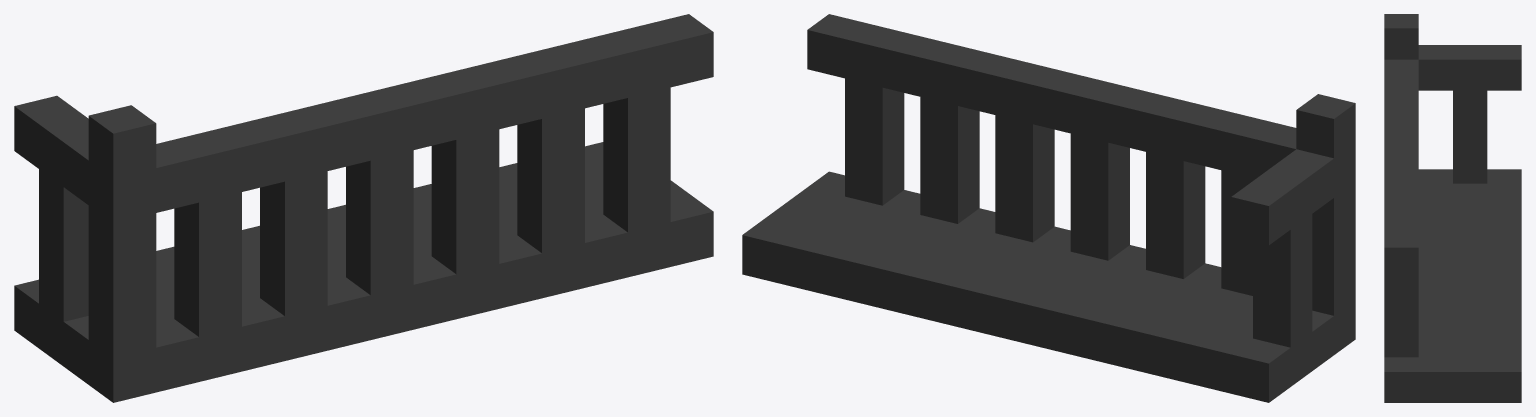
File: palazzo2.glb
3 views of the same model, side by side, from view 1: azimuth 30°, elevation 25°; view 2: azimuth 150°, elevation 25°; view 3: azimuth 270°, elevation 25° (orthographic). The views are drawn at different scales.
Visible parts, largest first — view 1: Ringhiera.Dx; view 2: Ringhiera.Dx; view 3: Ringhiera.Dx.
Part boxes in pixels (left/top/right/bottom): Ringhiera.Dx: left=14, top=14, right=713, bottom=402; Ringhiera.Dx: left=742, top=14, right=1355, bottom=402; Ringhiera.Dx: left=1384, top=14, right=1521, bottom=402.
Size of the model in its own units: 14 by 6 by 4.
1 material, 1 textured.
